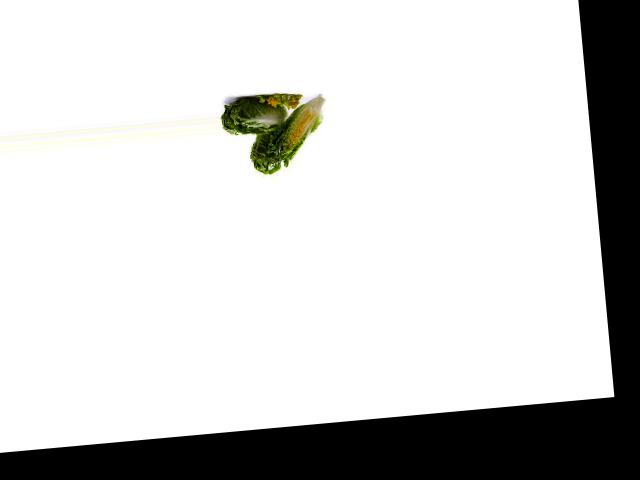lettuce: (221, 89, 296, 139)
